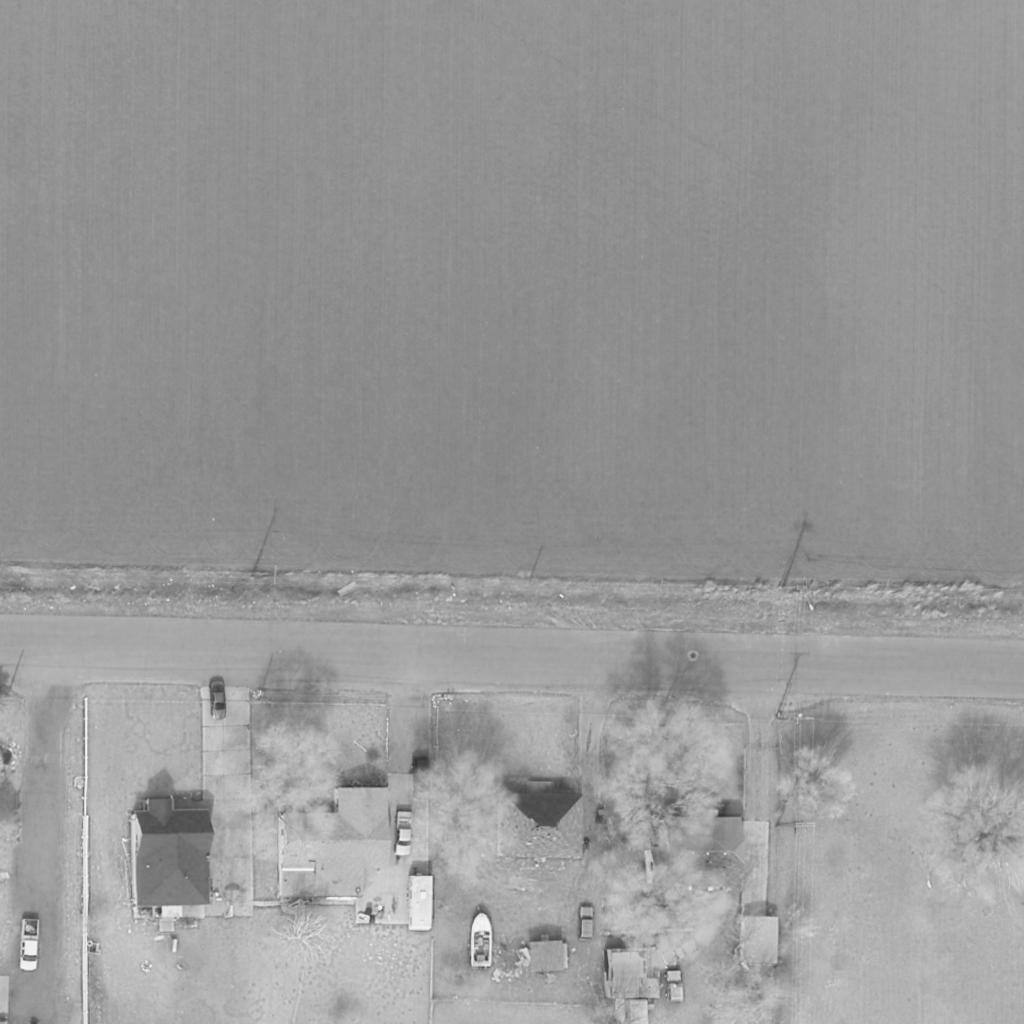vehicle: (408, 876, 434, 932), (470, 911, 494, 969), (20, 920, 42, 972), (395, 810, 415, 858), (210, 679, 226, 721), (577, 906, 595, 942), (664, 971, 684, 1003)
